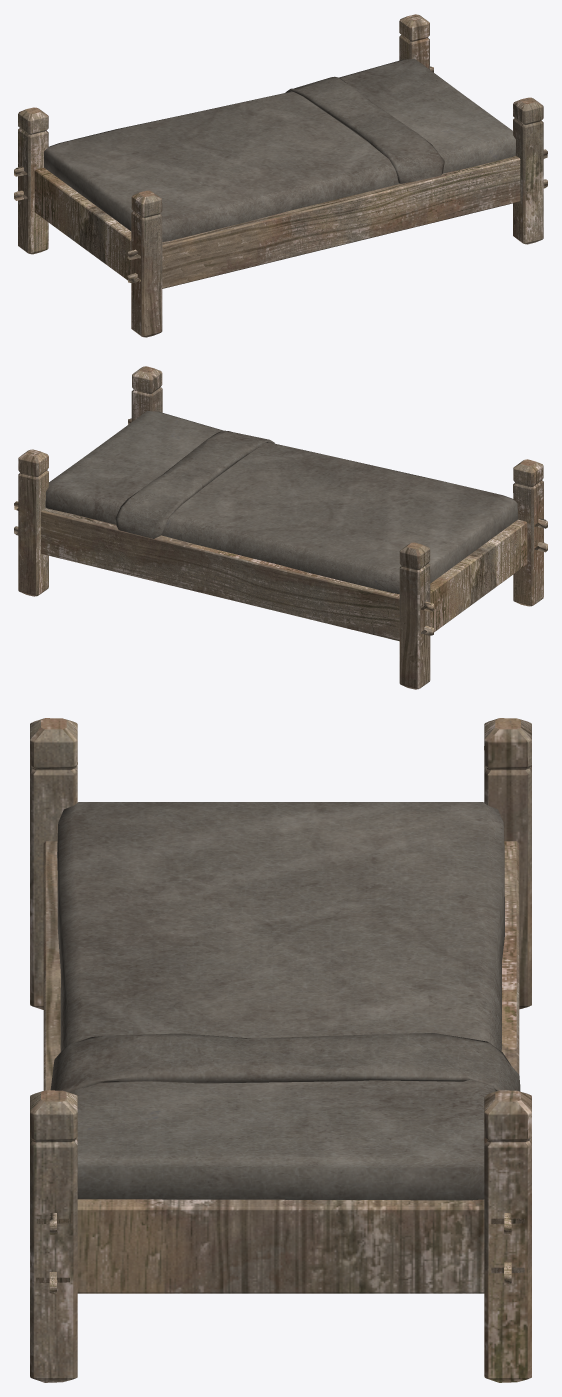
The model's file is SM_Bed.fbx.
The picture shows the model from 3 angles, top to bottom: view 1: azimuth 30°, elevation 25°; view 2: azimuth 150°, elevation 25°; view 3: azimuth 270°, elevation 25°; orthographic projection. The views are drawn at different scales.
Visible parts, largest first — view 1: SM_Bed_LOD0; view 2: SM_Bed_LOD0; view 3: SM_Bed_LOD0.
Boxes of the visible parts, <box> form: SM_Bed_LOD0: <box>14,14,547,337</box>; SM_Bed_LOD0: <box>14,366,547,689</box>; SM_Bed_LOD0: <box>30,718,531,1382</box>.
Bounding box in the file's own units: 281 × 146 × 90.4.
3 materials, 3 textured.
